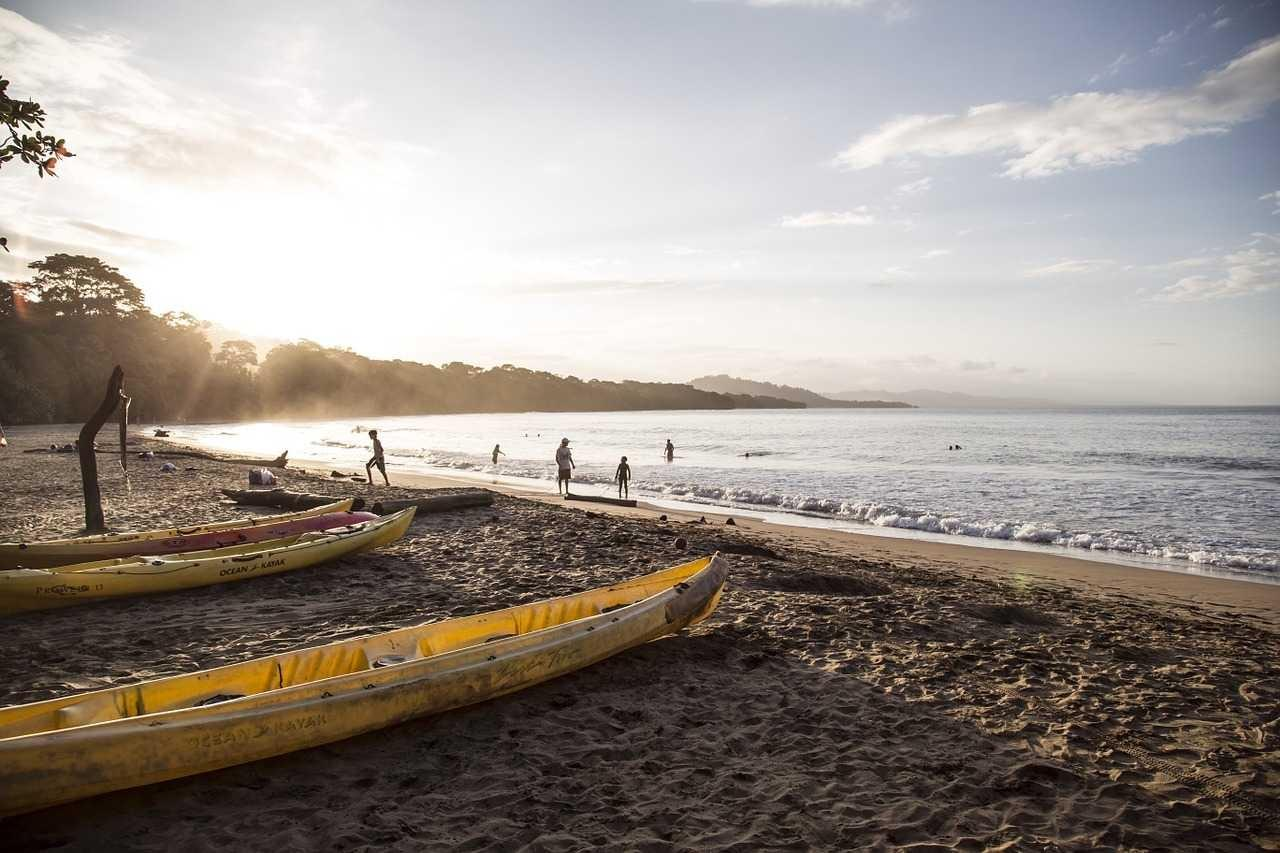kayak: (2, 552, 729, 818), (3, 505, 422, 619), (346, 487, 494, 517), (215, 487, 346, 513)
